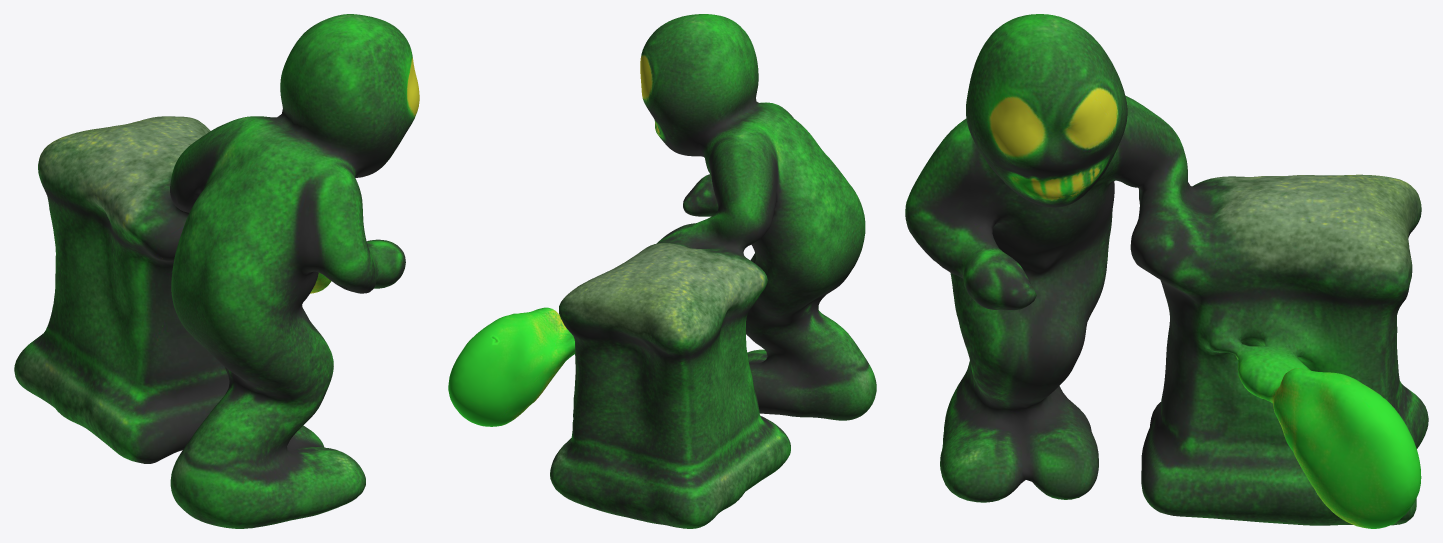
File: greenman.glb
3 renders of one model, left to right at view 1: azimuth 30°, elevation 25°; view 2: azimuth 150°, elevation 25°; view 3: azimuth 270°, elevation 25°, orthographic. The views are drawn at different scales.
Parts seen in each view (by area): view 1: Mesh1; view 2: Mesh1; view 3: Mesh1.
Boxes of the visible parts, x1=… form: Mesh1: x1=14, y1=14, x2=419, y2=528; Mesh1: x1=448, y1=14, x2=876, y2=528; Mesh1: x1=905, y1=14, x2=1428, y2=528.
Size of the model in its own units: 0.8773 by 1.2 by 1.09.
1 material, 1 textured.
